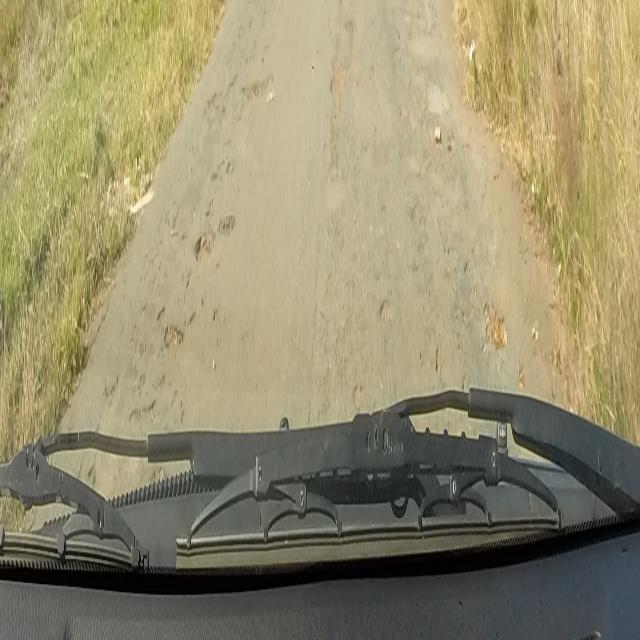pothole: (185, 209, 244, 262), (482, 292, 508, 348), (162, 318, 184, 351)
